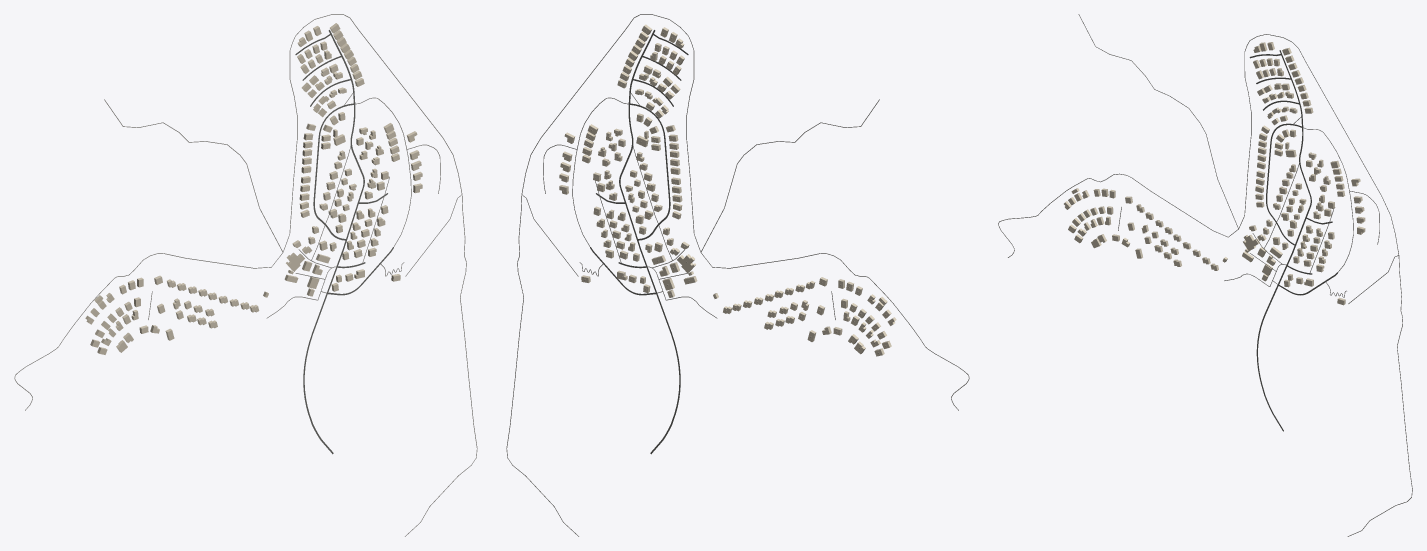
Rendered from historic-palestine-09_27_3511_3215.glb.
The picture shows the model from 3 angles, left to right: view 1: azimuth 30°, elevation 25°; view 2: azimuth 150°, elevation 25°; view 3: azimuth 330°, elevation 25°; orthographic projection. The views are drawn at different scales.
Parts seen in each view (by area): view 1: Road .001, Road .013; view 2: Road .001, Road .013; view 3: Road .001, Road .013.
Boxes of the visible parts, x1,y1,x2,y2 form: Road .001: (14,14,477,536); Road .013: (303,30,364,454); Road .001: (506,14,969,536); Road .013: (619,30,680,454); Road .001: (998,34,1412,536); Road .013: (1256,50,1311,431).
Bounding box in the file's own units: 1017 × 1135 × 8.7.
